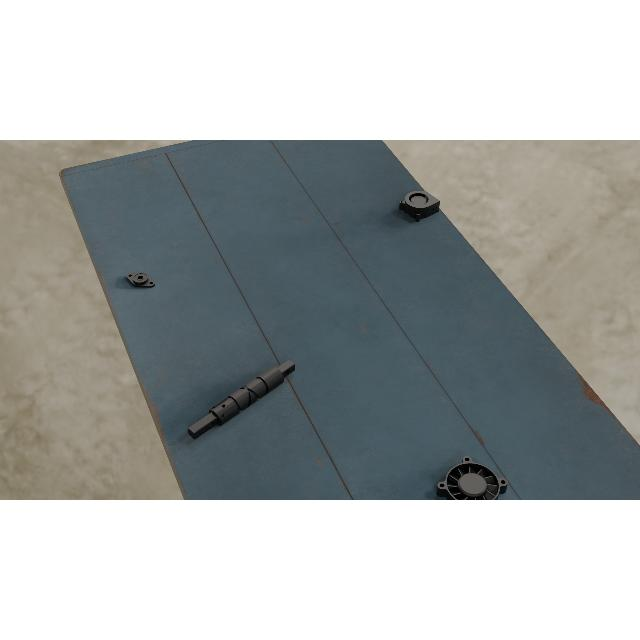Pieza1: (184, 354, 298, 446)
Pieza2: (122, 268, 160, 292)
Pieza3: (398, 187, 440, 223)
Pieza4: (434, 454, 511, 500)
